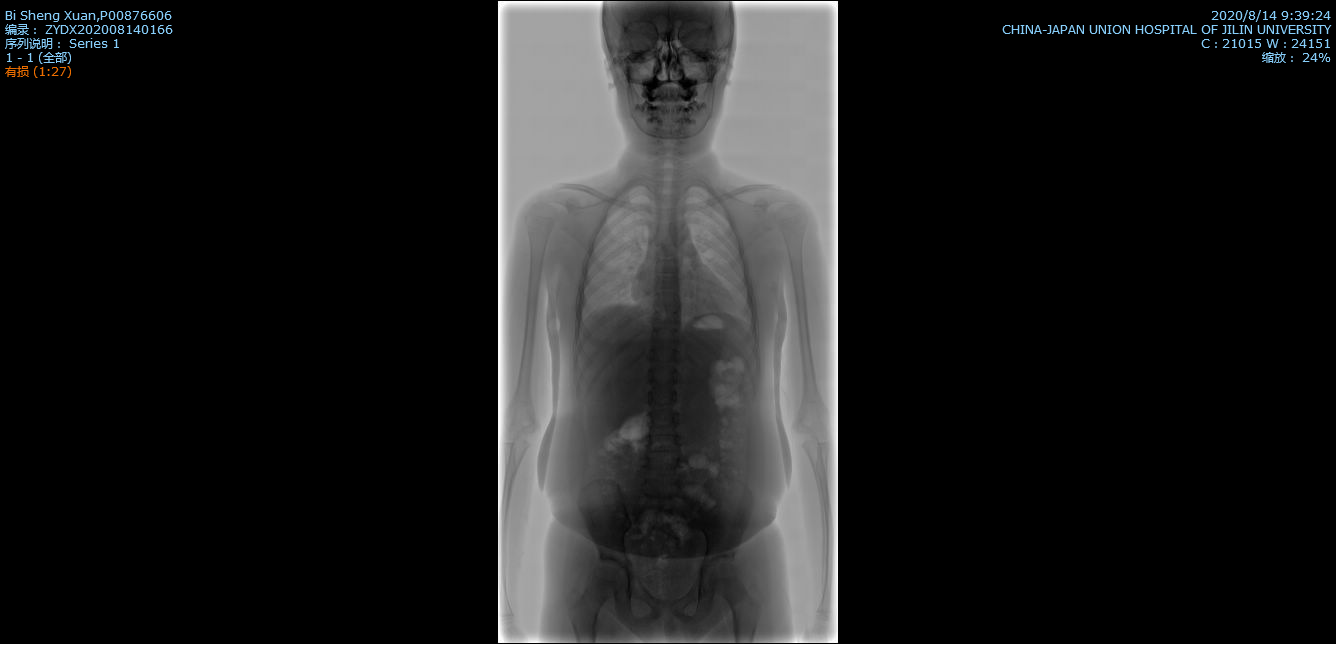胸10椎体: (654, 310, 680, 322)
胸11椎体: (652, 327, 680, 340)
胸12椎体: (652, 345, 678, 362)
胸7椎体: (655, 258, 678, 271)
胸8椎体: (656, 276, 678, 290)
胸9椎体: (655, 292, 680, 306)
腰1椎体: (650, 368, 677, 384)
腰2椎体: (649, 392, 677, 406)
腰3椎体: (650, 411, 678, 429)
腰4椎体: (650, 436, 680, 450)
腰5椎体: (650, 455, 681, 472)
